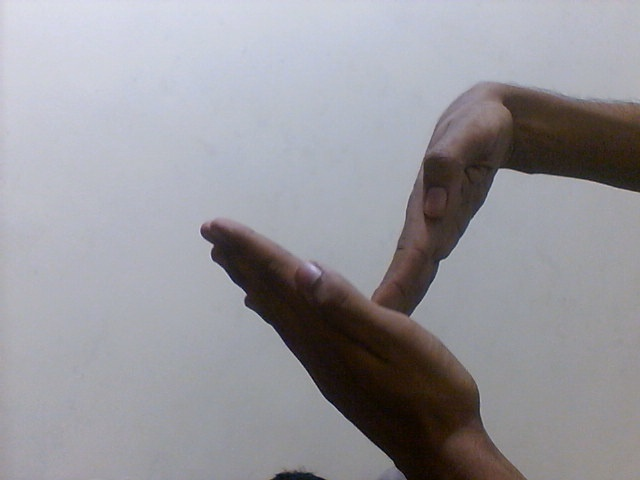hand: (199, 214, 489, 440), (368, 80, 522, 321)
